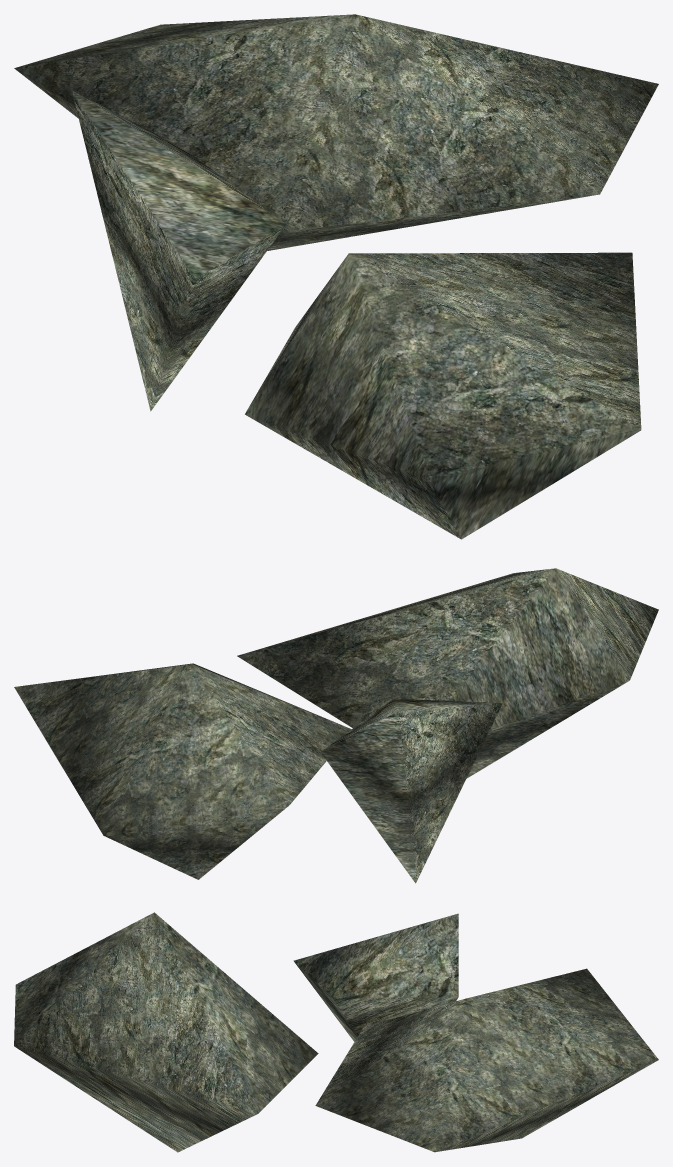
Rendered from mtns_rock_grey_a10_l3.fbx.
The picture shows the model from 3 angles, top to bottom: view 1: azimuth 30°, elevation 25°; view 2: azimuth 150°, elevation 25°; view 3: azimuth 270°, elevation 25°; orthographic projection. The views are drawn at different scales.
Visible parts, largest first — view 1: mesh_node; view 2: mesh_node; view 3: mesh_node.
Part boxes in pixels (x1,y1,x2,y2): mesh_node: (14,14,658,539); mesh_node: (14,568,658,883); mesh_node: (14,912,658,1152).
Bounding box in the file's own units: 0.8763 × 0.4308 × 1.25.
1 material, 1 textured.
